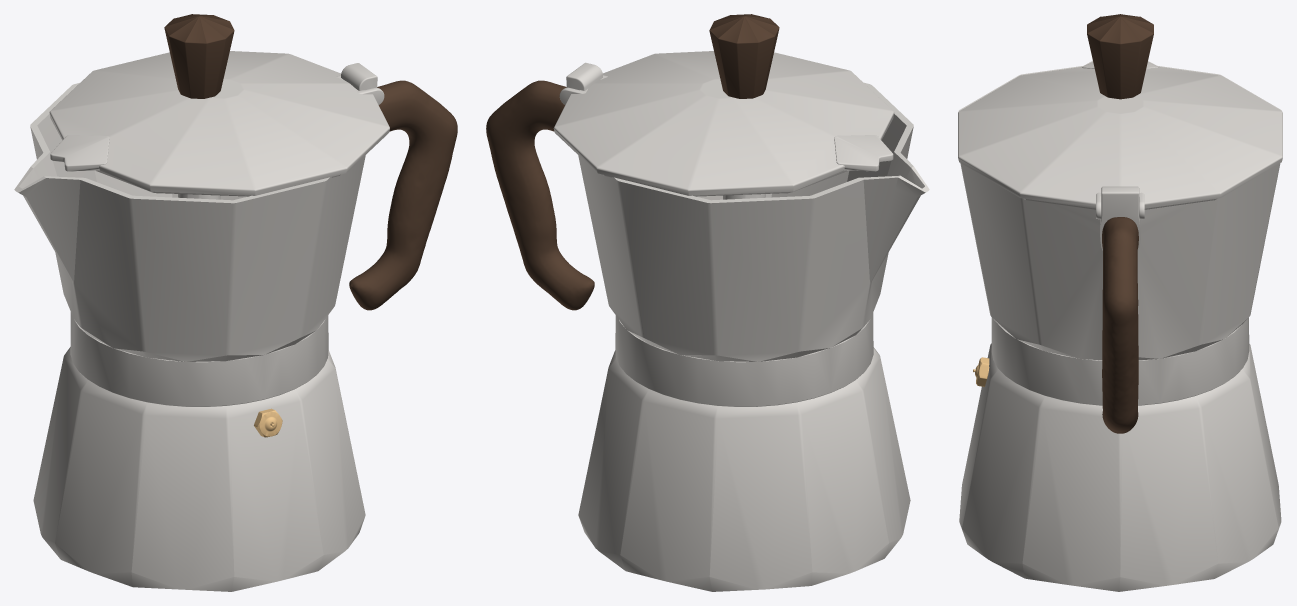
Rendered from coffee_maker_italian_moka_pot_individual_parts.glb.
3 renders of one model, left to right at view 1: azimuth 30°, elevation 25°; view 2: azimuth 150°, elevation 25°; view 3: azimuth 270°, elevation 25°, orthographic.
Parts seen in each view (by area): view 1: MokaCollectorChamber, MokaBoilerBody, MokaLidMetal, MokaCollectorHandle, MokaLidKnob, MokaBoilerValve; view 2: MokaCollectorChamber, MokaBoilerBody, MokaLidMetal, MokaCollectorHandle, MokaLidKnob; view 3: MokaBoilerBody, MokaCollectorChamber, MokaLidMetal, MokaCollectorHandle, MokaLidKnob.
Boxes of the visible parts, bbox=[...] form: MokaCollectorChamber: bbox=[14, 63, 377, 406]; MokaBoilerBody: bbox=[33, 347, 365, 591]; MokaLidMetal: bbox=[49, 51, 389, 196]; MokaCollectorHandle: bbox=[349, 80, 457, 310]; MokaLidKnob: bbox=[164, 14, 234, 98]; MokaBoilerValve: bbox=[254, 408, 282, 437]; MokaCollectorChamber: bbox=[566, 62, 929, 406]; MokaBoilerBody: bbox=[578, 347, 910, 591]; MokaLidMetal: bbox=[553, 51, 894, 196]; MokaCollectorHandle: bbox=[486, 80, 594, 310]; MokaLidKnob: bbox=[709, 14, 779, 98]; MokaBoilerBody: bbox=[959, 343, 1281, 591]; MokaCollectorChamber: bbox=[958, 60, 1281, 405]; MokaLidMetal: bbox=[958, 62, 1282, 219]; MokaCollectorHandle: bbox=[1102, 217, 1138, 433]; MokaLidKnob: bbox=[1087, 14, 1153, 99].
Bounding box in the file's own units: 0.1245 × 0.1377 × 0.0799.
